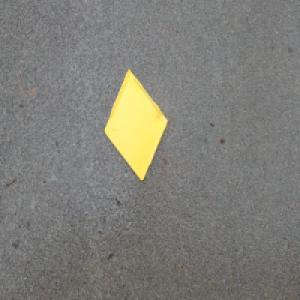PlasticPart: (103, 66, 169, 182)
